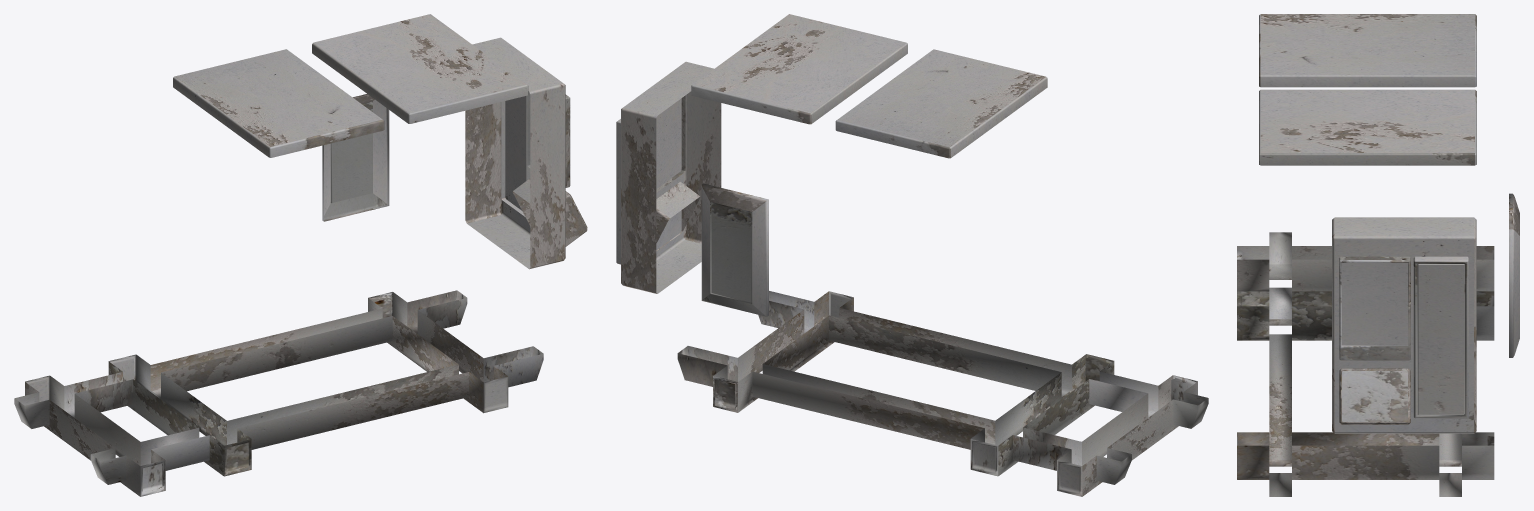
The model's file is generator_l1.fbx.
3 views of the same model, side by side, from view 1: azimuth 30°, elevation 25°; view 2: azimuth 150°, elevation 25°; view 3: azimuth 270°, elevation 25° (orthographic). The views are drawn at different scales.
Visible parts, largest first — view 1: Cube.161; view 2: Cube.161; view 3: Cube.161.
Boxes of the visible parts, x1=… form: Cube.161: x1=14, y1=14, x2=587, y2=496; Cube.161: x1=616, y1=14, x2=1208, y2=496; Cube.161: x1=1237, y1=14, x2=1519, y2=496.
Bounding box in the file's own units: 410 × 232 × 174.
